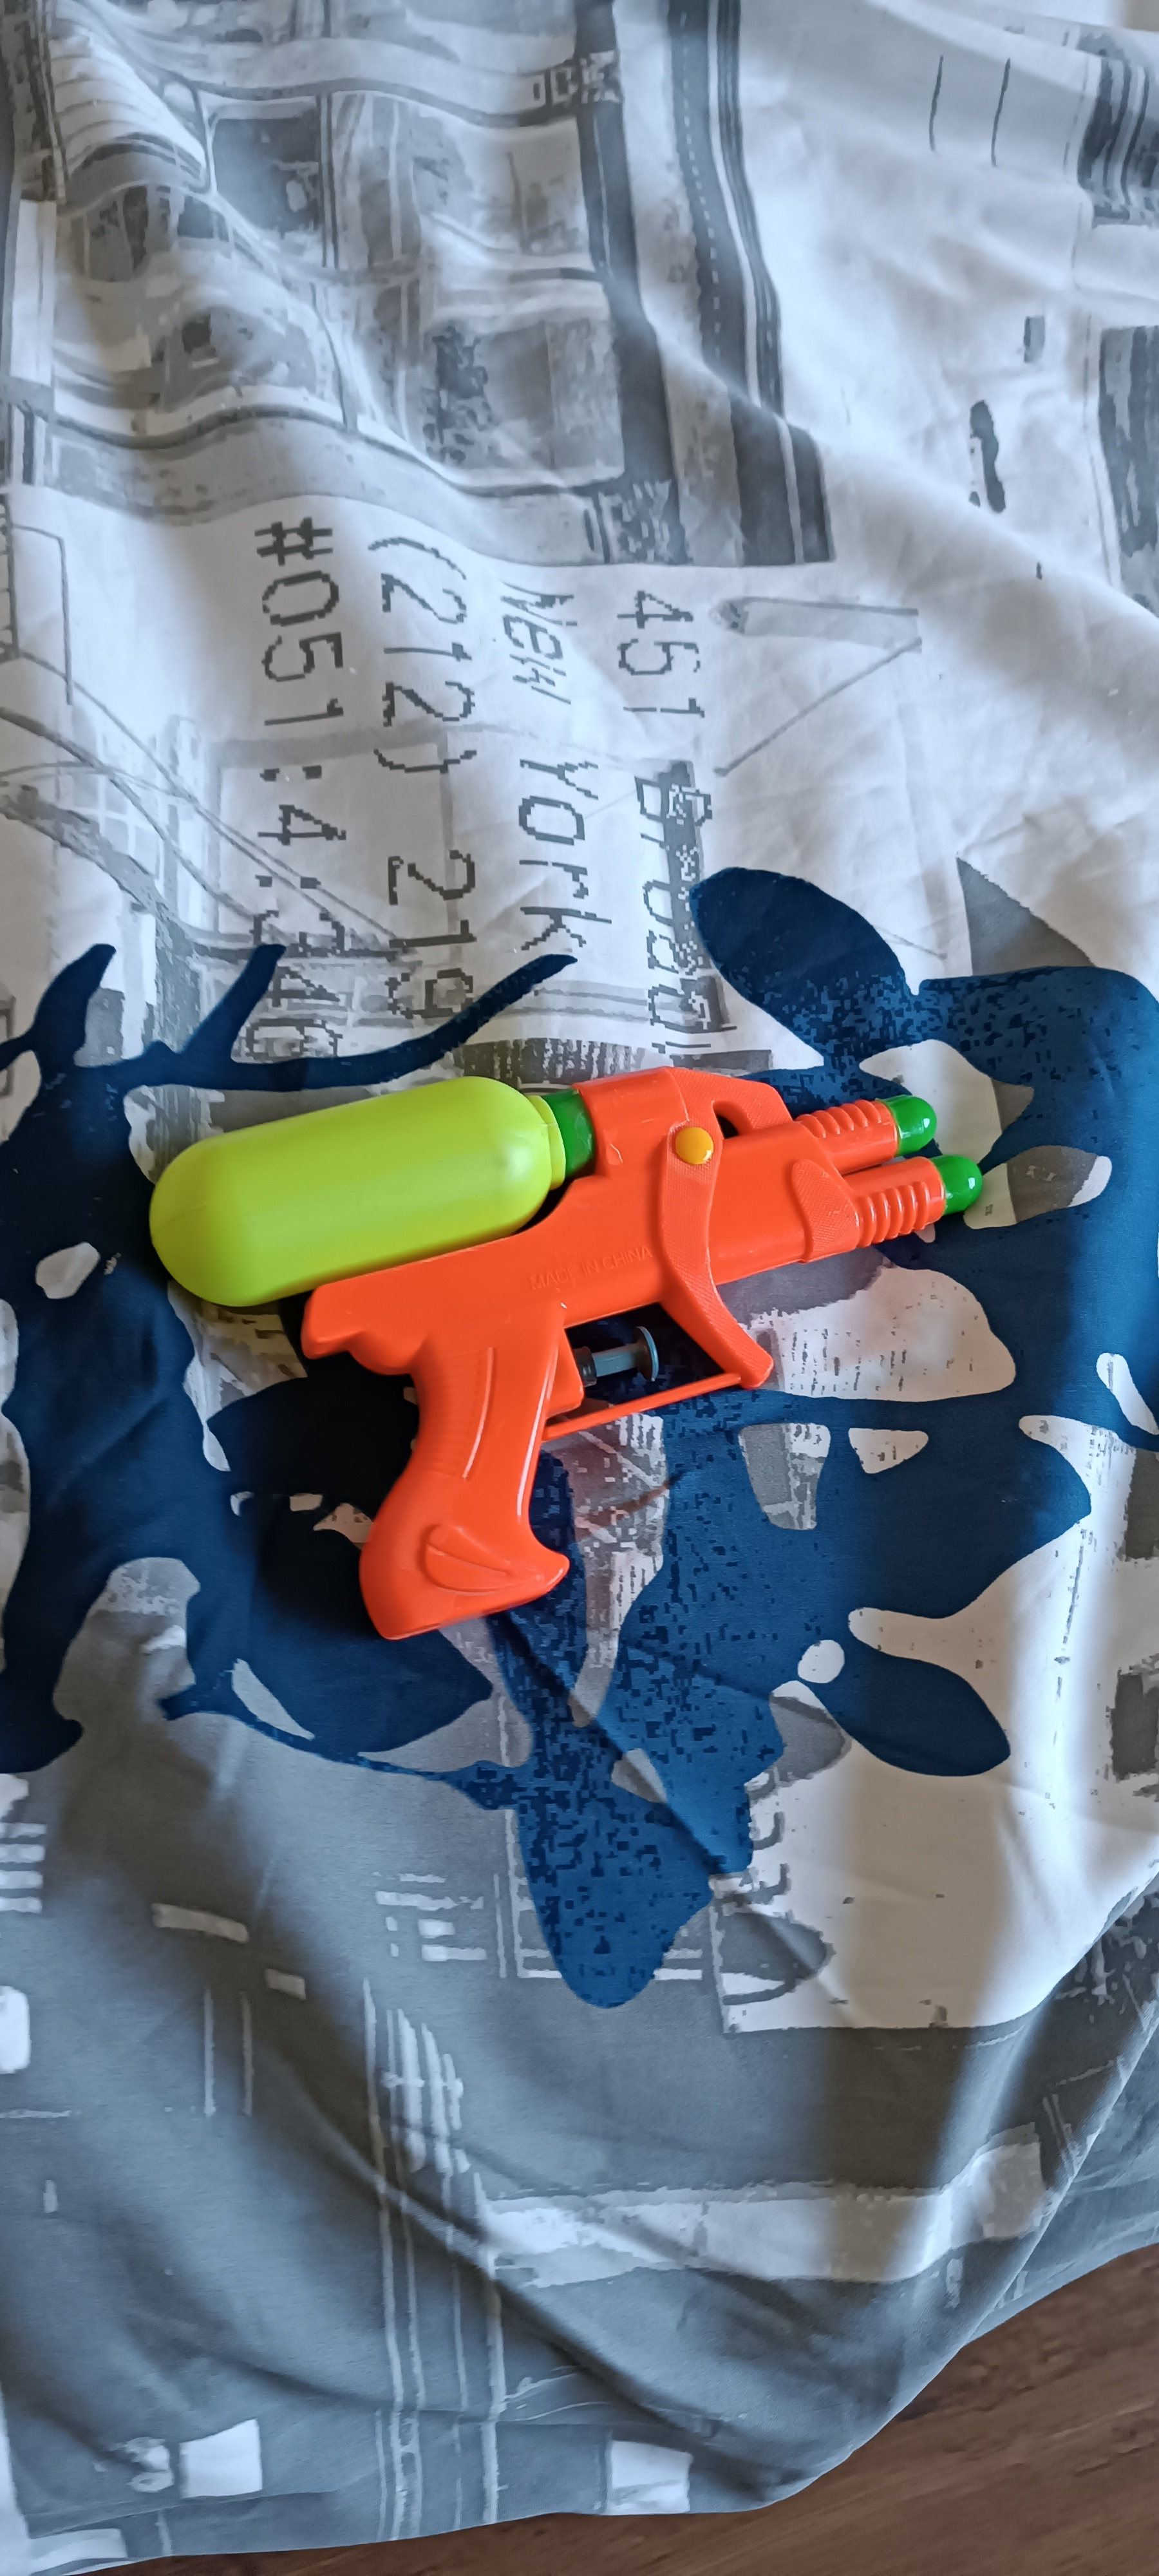Water Gun: (146, 1065, 985, 1643)
